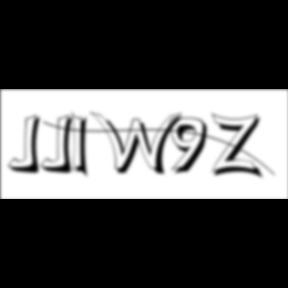9: (170, 117, 214, 177)
I: (72, 110, 96, 182)
J: (40, 114, 80, 176), (9, 114, 48, 176)
W: (90, 110, 188, 178)
Z: (212, 112, 266, 181)
